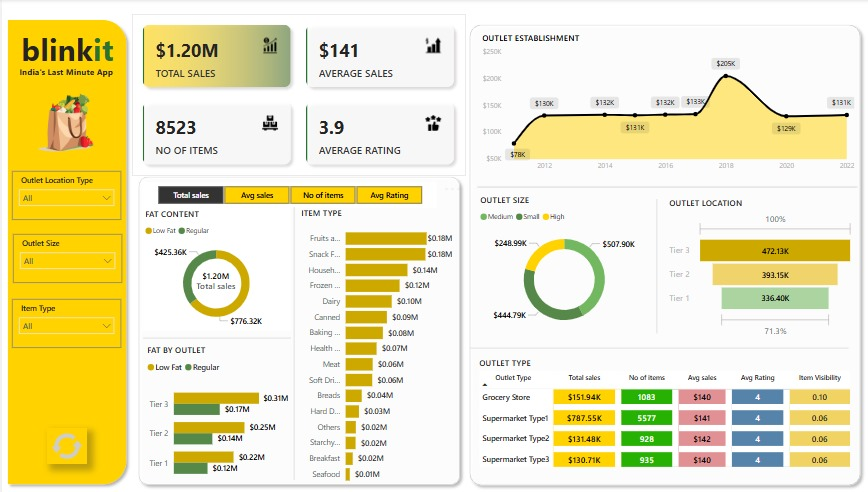

Layout of this report page (visuals, bound fields, positions):
{"tool":"powerbi","page":{"name":"BLINKIT DASHBOARD","canvas":[1400,800],"ordinal":0},"visuals":[{"type":"shape","box":[0,23.9,205,750],"z":0},{"type":"textbox","box":[16.5,40.5,174.7,74.7],"z":1000},{"type":"textbox","box":[16.5,100,170.9,29.1],"z":2000},{"type":"cardVisual","fields":{"Data":["BlinkIT Grocery Data.Total sales","BlinkIT Grocery Data.Avg sales","BlinkIT Grocery Data.No of items","BlinkIT Grocery Data.Avg Rating"]},"box":[204.8,23.8,525.4,255.6],"z":3000},{"type":"shape","box":[206.3,271.4,523.8,503.2],"z":4000},{"type":"donutChart","title":"FAT CONTENT","fields":{"Y":["BlinkIT Grocery Data.Total sales"],"Category":["BlinkIT Grocery Data.Item Fat Content"]},"box":[219.7,328.9,234.2,193.4],"z":5000},{"type":"slicer","fields":{"Values":["Metrics.Metrics"]},"box":[219.7,288.2,464.5,40.8],"z":6000},{"type":"cardVisual","fields":{"Data":["BlinkIT Grocery Data.Total sales"]},"box":[281.7,410,110,53.3],"z":7000},{"type":"clusteredBarChart","title":"FAT BY OUTLET","fields":{"Y":["BlinkIT Grocery Data.Total sales"],"Category":["BlinkIT Grocery Data.Outlet Location Type"],"Series":["BlinkIT Grocery Data.Item Fat Content"]},"box":[223.3,543.3,231.7,230],"z":8000},{"type":"shape","box":[221.7,501.7,233.3,63.3],"z":9000},{"type":"shape","box":[453.9,327.6,13.2,430.3],"z":10000},{"type":"barChart","title":"ITEM TYPE","fields":{"Y":["BlinkIT Grocery Data.Total sales"],"Category":["BlinkIT Grocery Data.Item Type"]},"box":[466.7,327,247.6,446],"z":11000},{"type":"shape","box":[728.3,31.7,633.3,743.3],"z":12000},{"type":"lineChart","title":"OUTLET ESTABLISHMENT","fields":{"Category":["BlinkIT Grocery Data.Outlet Establishment Year"],"Y":["BlinkIT Grocery Data.Total sales"]},"box":[751.3,51.3,596.2,228.2],"z":13000},{"type":"shape","box":[751.3,266.7,596.2,60.3],"z":14000},{"type":"donutChart","title":"OUTLET SIZE","fields":{"Y":["BlinkIT Grocery Data.Total sales"],"Category":["BlinkIT Grocery Data.Outlet Size"]},"box":[748.3,306.7,275,225],"z":15000},{"type":"shape","box":[1026.9,315.4,9,211.5],"z":16000},{"type":"funnel","title":"OUTLET LOCATION","fields":{"Y":["Sum(BlinkIT Grocery Data.Sales)"],"Category":["BlinkIT Grocery Data.Outlet Location Type"]},"box":[1045,311.7,300,226.7],"z":17000},{"type":"shape","box":[737.2,519.2,596.2,60.3],"z":18000},{"type":"pivotTable","title":"OUTLET TYPE","fields":{"Rows":["BlinkIT Grocery Data.Outlet Type"],"Values":["BlinkIT Grocery Data.Total sales","BlinkIT Grocery Data.No of items","BlinkIT Grocery Data.Avg sales","BlinkIT Grocery Data.Avg Rating","Avg(BlinkIT Grocery Data.Item Visibility)"]},"box":[746.7,563.3,598.3,195],"z":19000},{"type":"slicer","fields":{"Values":["BlinkIT Grocery Data.Outlet Location Type"]},"box":[15.7,270.9,171.7,77.2],"z":20000},{"type":"shape","box":[748.7,266.7,596.2,60.3],"z":21000},{"type":"slicer","fields":{"Values":["BlinkIT Grocery Data.Outlet Size"]},"box":[17.3,370.1,171.7,77.2],"z":22000},{"type":"slicer","fields":{"Values":["BlinkIT Grocery Data.Item Type"]},"box":[15.7,472.4,171.7,77.2],"z":23000},{"type":"image","box":[70.9,675.6,63,56.7],"z":23001},{"type":"image","box":[40.9,129.1,122.8,127.6],"z":23002}]}

Visuals, with their boxes in screenshot pixels (x1, y1, x2, y2), scaled from the page's 1400x800 canvas onto the 868x492 screenshot:
shape: 0 15 127 476
textbox: 10 25 119 71
textbox: 10 62 116 79
cardVisual - BlinkIT Grocery Data.Total sales x BlinkIT Grocery Data.Avg sales: 127 15 453 172
shape: 128 167 453 476
"FAT CONTENT" donutChart: 136 202 281 321
slicer - Metrics.Metrics: 136 177 424 202
cardVisual - BlinkIT Grocery Data.Total sales: 175 252 243 285
"FAT BY OUTLET" clusteredBarChart: 138 334 282 476
shape: 137 309 282 347
shape: 281 201 290 466
"ITEM TYPE" barChart: 289 201 443 475
shape: 452 19 844 477
"OUTLET ESTABLISHMENT" lineChart: 466 32 835 172
shape: 466 164 835 201
"OUTLET SIZE" donutChart: 464 189 634 327
shape: 637 194 642 324
"OUTLET LOCATION" funnel: 648 192 834 331
shape: 457 319 827 356
"OUTLET TYPE" pivotTable: 463 346 834 466
slicer - BlinkIT Grocery Data.Outlet Location Type: 10 167 116 214
shape: 464 164 834 201
slicer - BlinkIT Grocery Data.Outlet Size: 11 228 117 275
slicer - BlinkIT Grocery Data.Item Type: 10 291 116 338
image: 44 415 83 450
image: 25 79 101 158
